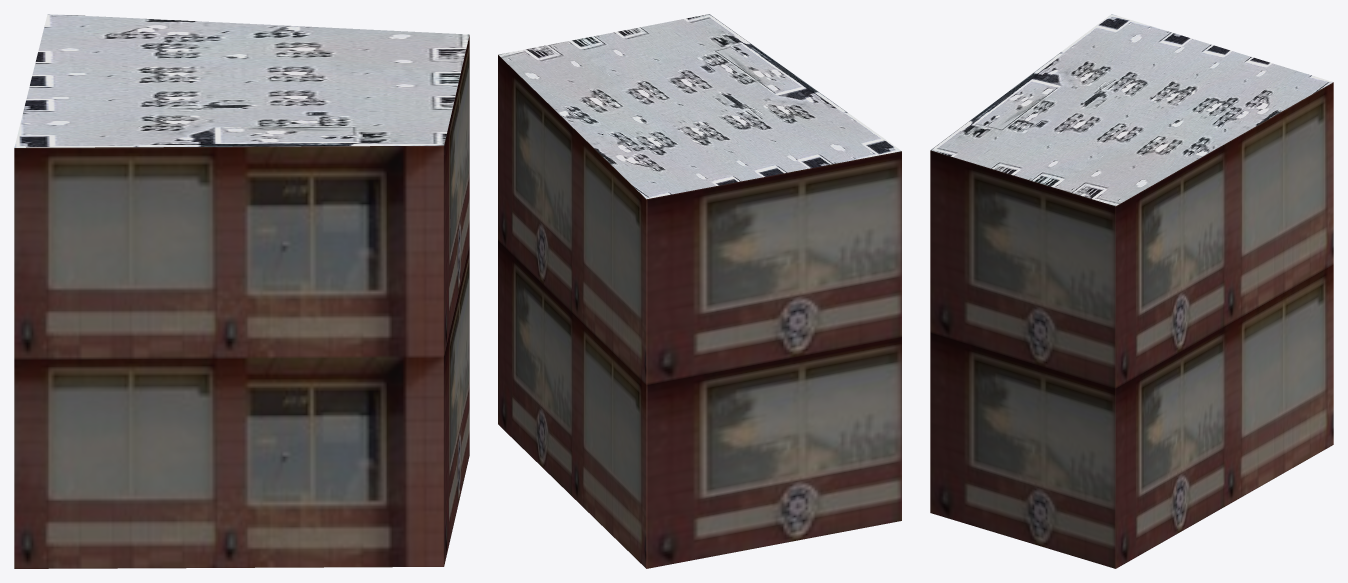
File: ResTex__1365.fbx
The picture shows the model from 3 angles, left to right: view 1: azimuth 30°, elevation 25°; view 2: azimuth 150°, elevation 25°; view 3: azimuth 270°, elevation 25°; orthographic projection. The views are drawn at different scales.
Parts seen in each view (by area): view 1: CityEngineMaterial_13_m, CityEngineMaterial_4_m; view 2: CityEngineMaterial_13_m, CityEngineMaterial_4_m; view 3: CityEngineMaterial_13_m, CityEngineMaterial_4_m.
Part boxes in pixels (x1,y1,x2,y2): CityEngineMaterial_13_m: (14, 35, 469, 568); CityEngineMaterial_4_m: (14, 14, 469, 147); CityEngineMaterial_13_m: (498, 55, 901, 568); CityEngineMaterial_4_m: (498, 14, 901, 199); CityEngineMaterial_13_m: (930, 82, 1333, 568); CityEngineMaterial_4_m: (930, 14, 1333, 206).
Size of the model in its own units: 6.82 by 6 by 6.05.
2 materials, 2 textured.
